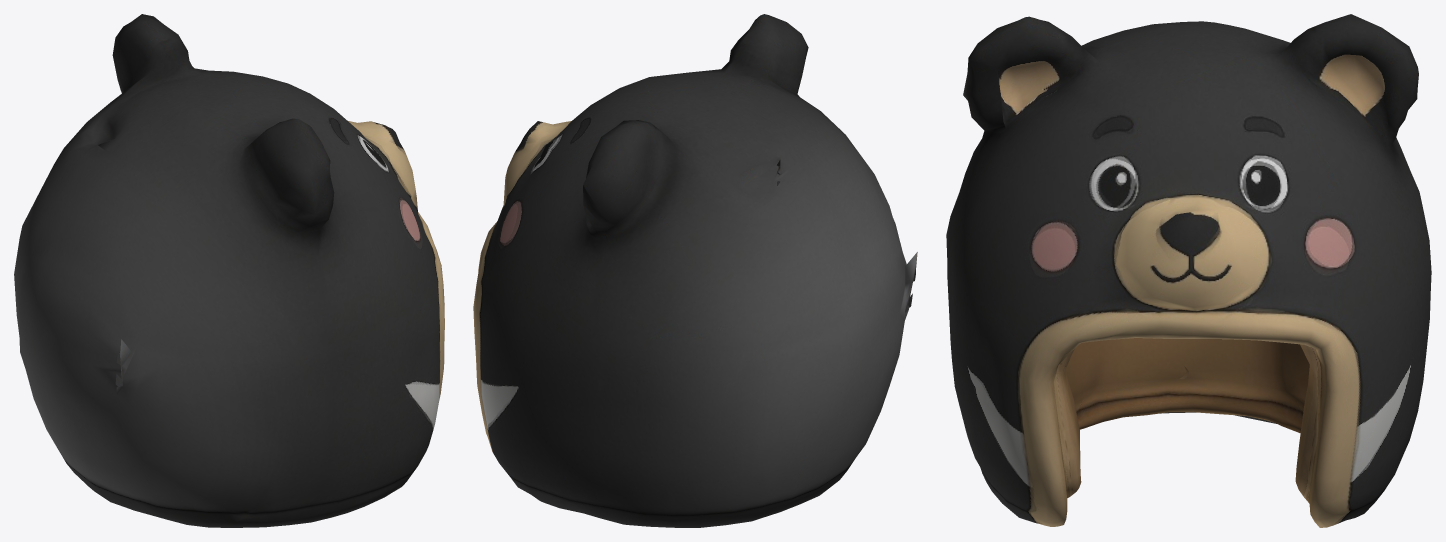
File: tripo_convert_ff6e60b6-8036-4246-8906-0e755bbd867d.fbx
3 renders of one model, left to right at view 1: azimuth 30°, elevation 25°; view 2: azimuth 150°, elevation 25°; view 3: azimuth 270°, elevation 25°, orthographic. The views are drawn at different scales.
Parts seen in each view (by area): view 1: tripo_node_ff6e60b6; view 2: tripo_node_ff6e60b6; view 3: tripo_node_ff6e60b6.
Boxes of the visible parts, x1,y1,x2,y2 form: tripo_node_ff6e60b6: [14, 14, 444, 527]; tripo_node_ff6e60b6: [473, 14, 917, 527]; tripo_node_ff6e60b6: [946, 14, 1431, 527].
Size of the model in its own units: 0.9374 by 0.9893 by 0.9552.
1 material, 1 textured.
